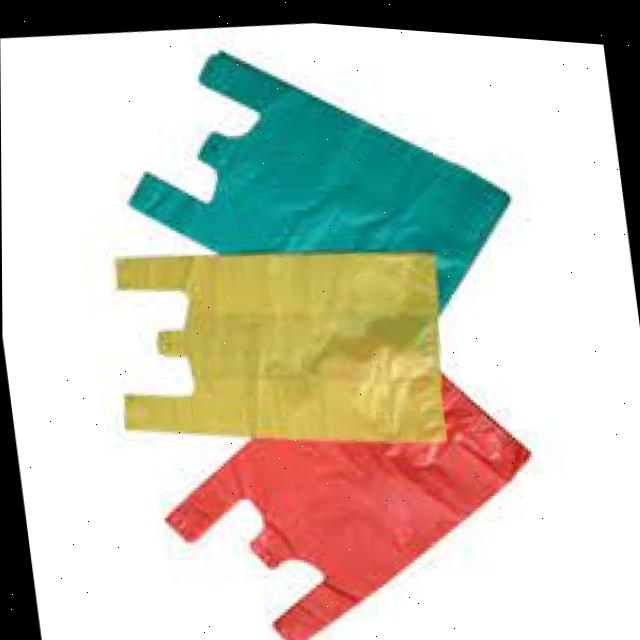Dry: (38, 4, 574, 640)
